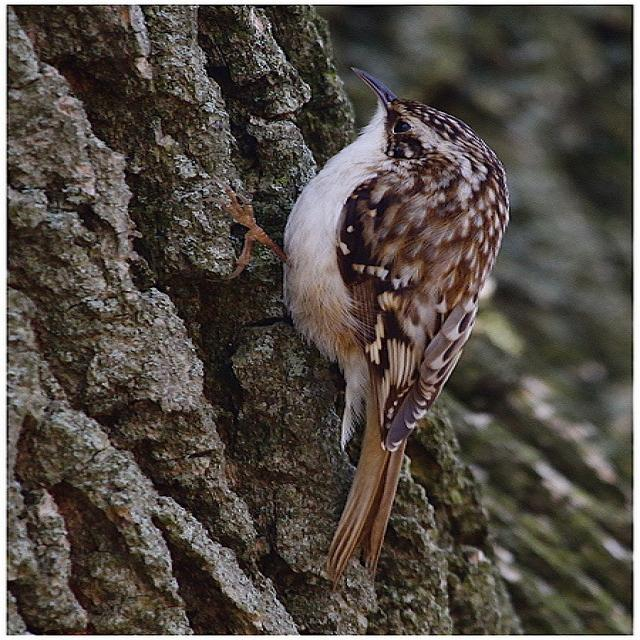bird: (222, 62, 518, 582)
